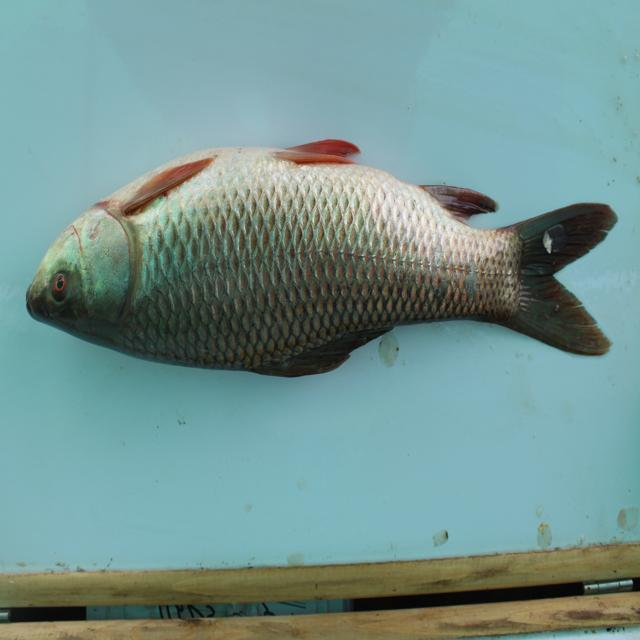Rohu: (20, 127, 640, 399)
